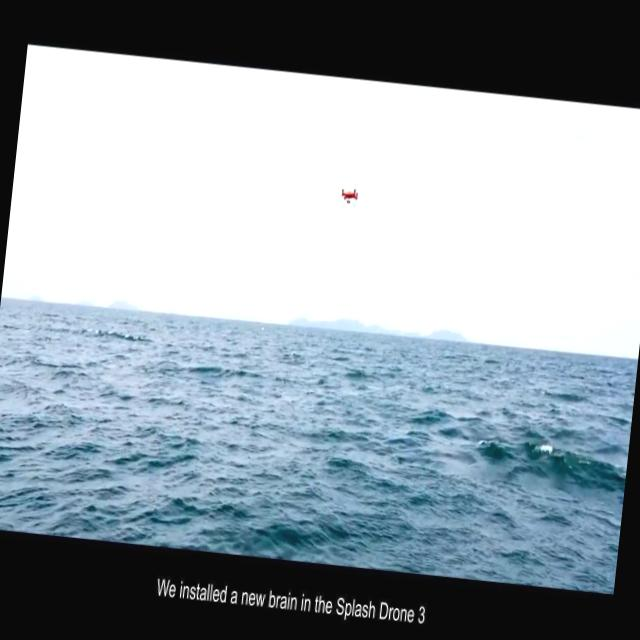drone: (336, 182, 362, 213)
